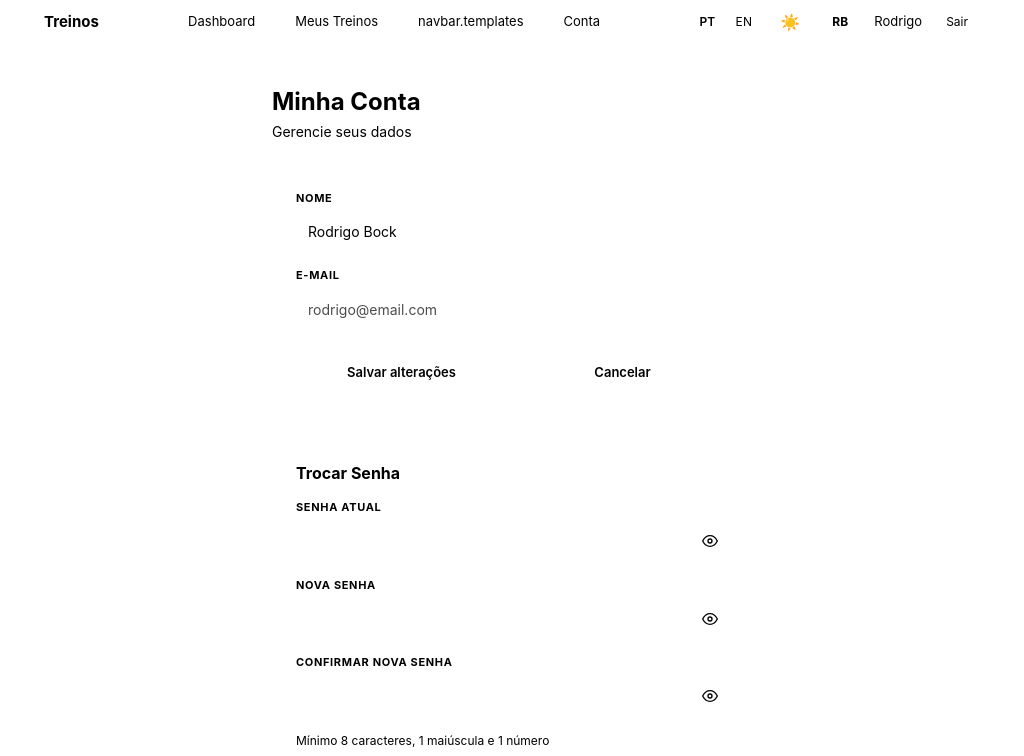
Scenario: Trocar senha: exibe erro quando API falha
This screenshot has width=1024, height=756.
Type "WrongOld1" into the password field below "Senha Atual" at (512, 542), box [296,522,728,561]
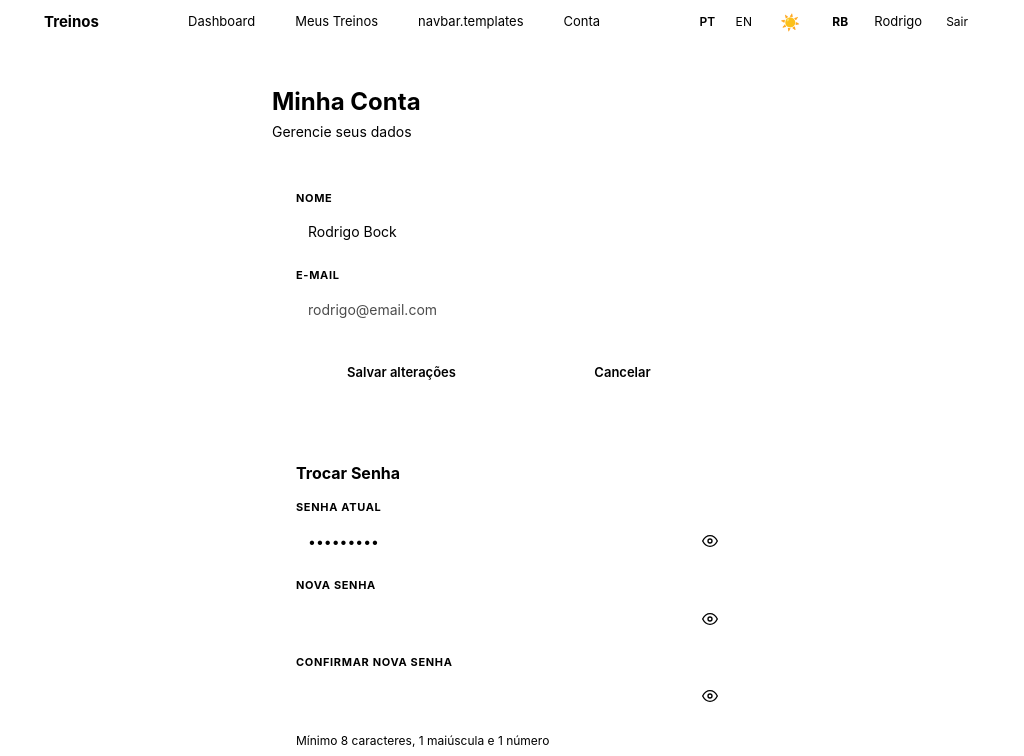
Type "NewPass123" into the 2nd password field at (512, 619), box [296,600,728,638]
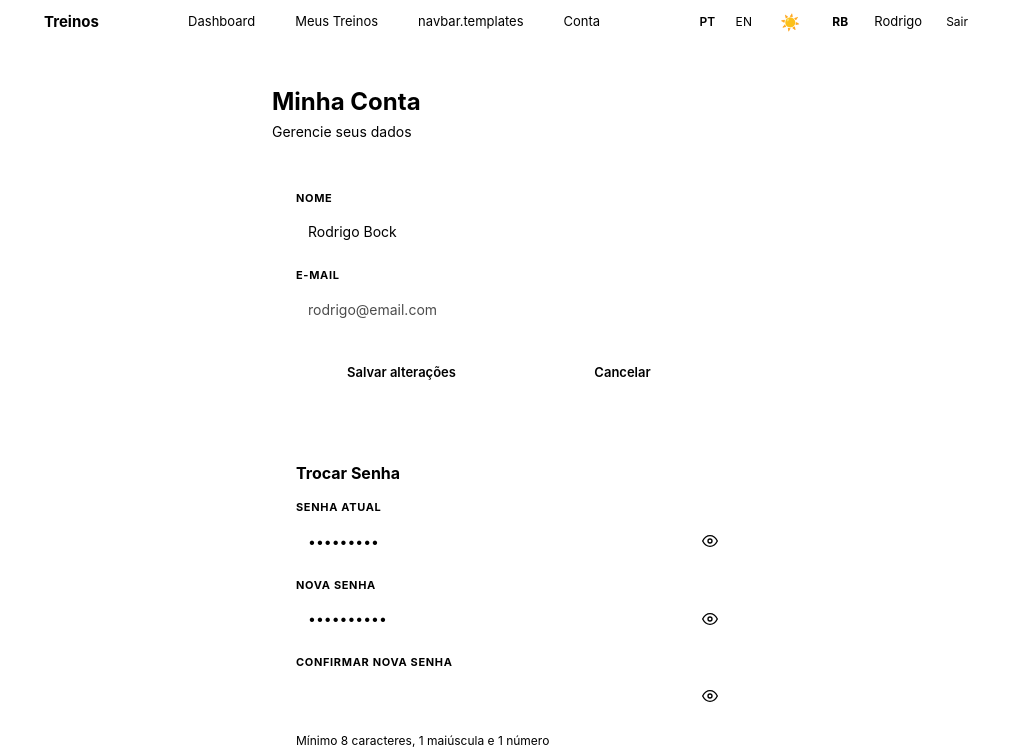
Type "NewPass123" into the password field below "Confirmar Nova Senha" at (512, 696), box [296,677,728,716]
(page scrolled)
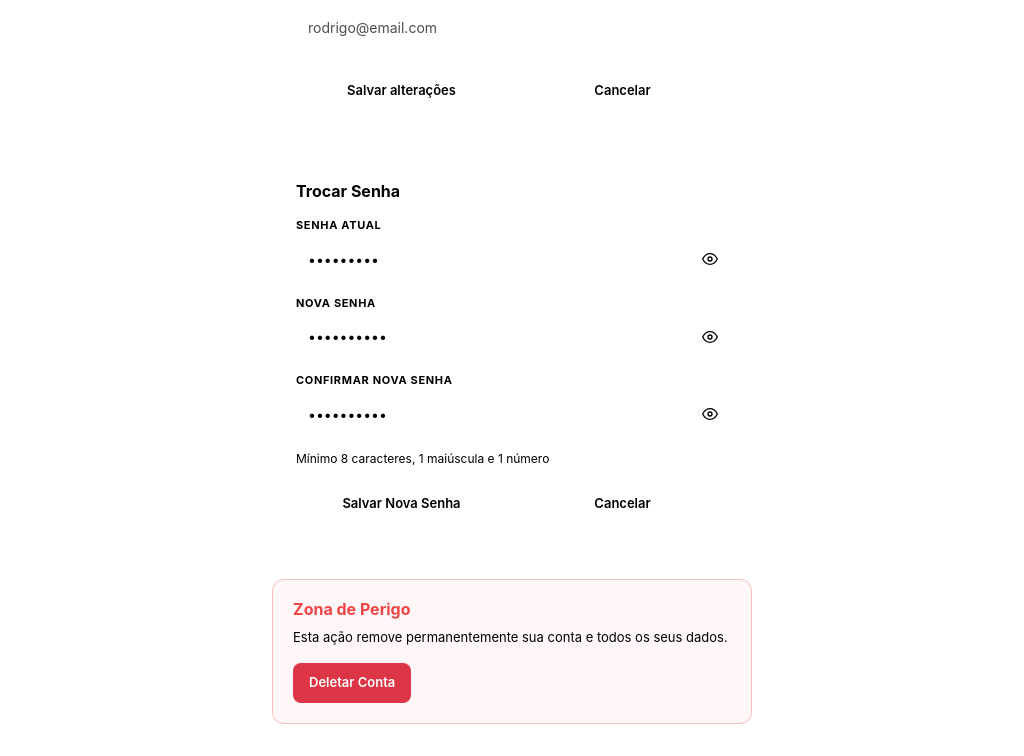
Click the button "Salvar Nova Senha" at (402, 504), box [296,484,507,524]
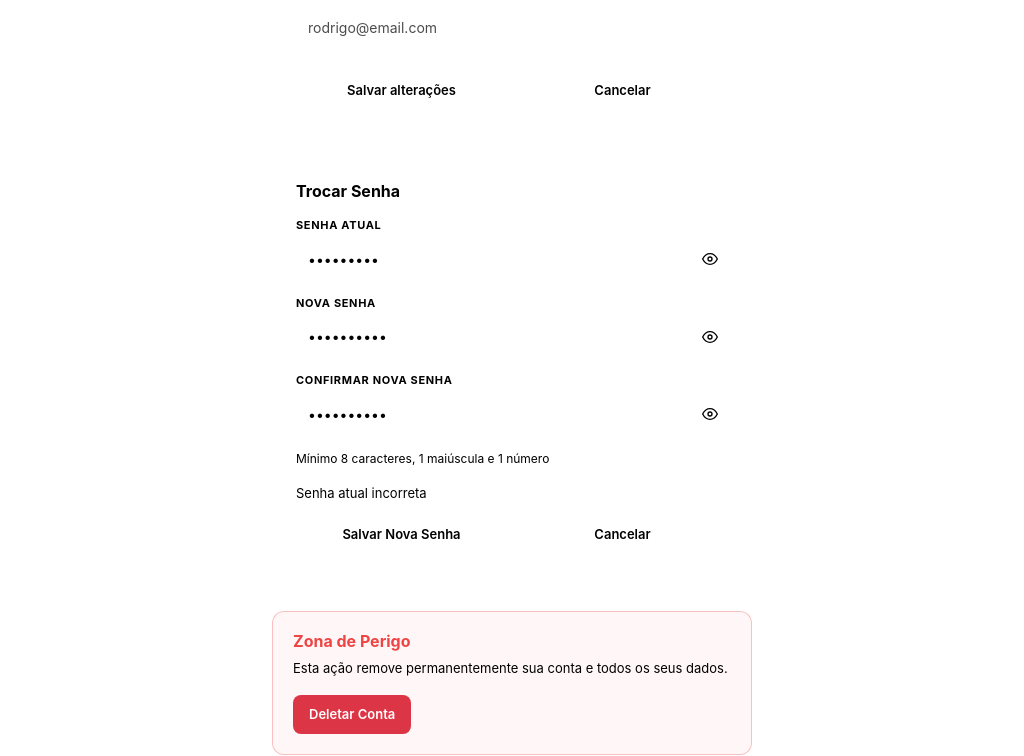
Result: the text "Senha atual incorreta" is shown at [296,485,427,501]
